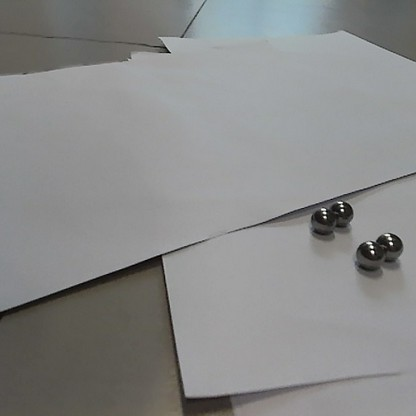ironball: (353, 236, 385, 273), (375, 229, 404, 264), (307, 206, 336, 234), (329, 199, 355, 228)
